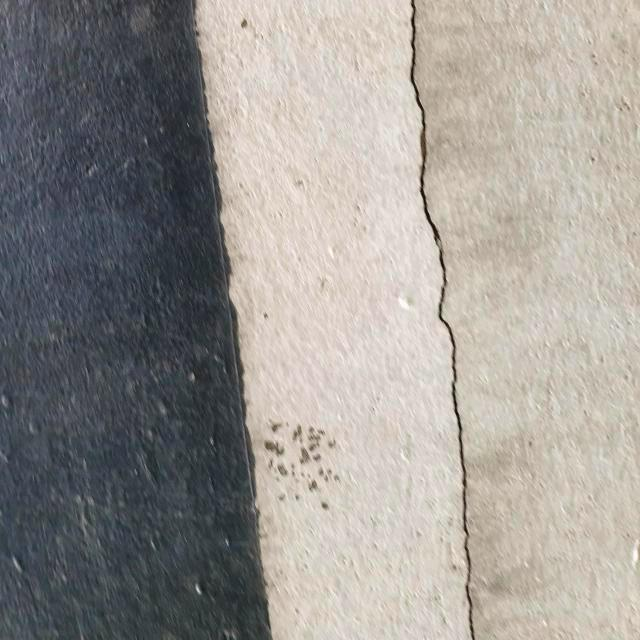SurfaceCrack: (138, 1, 291, 640), (372, 0, 508, 640)
